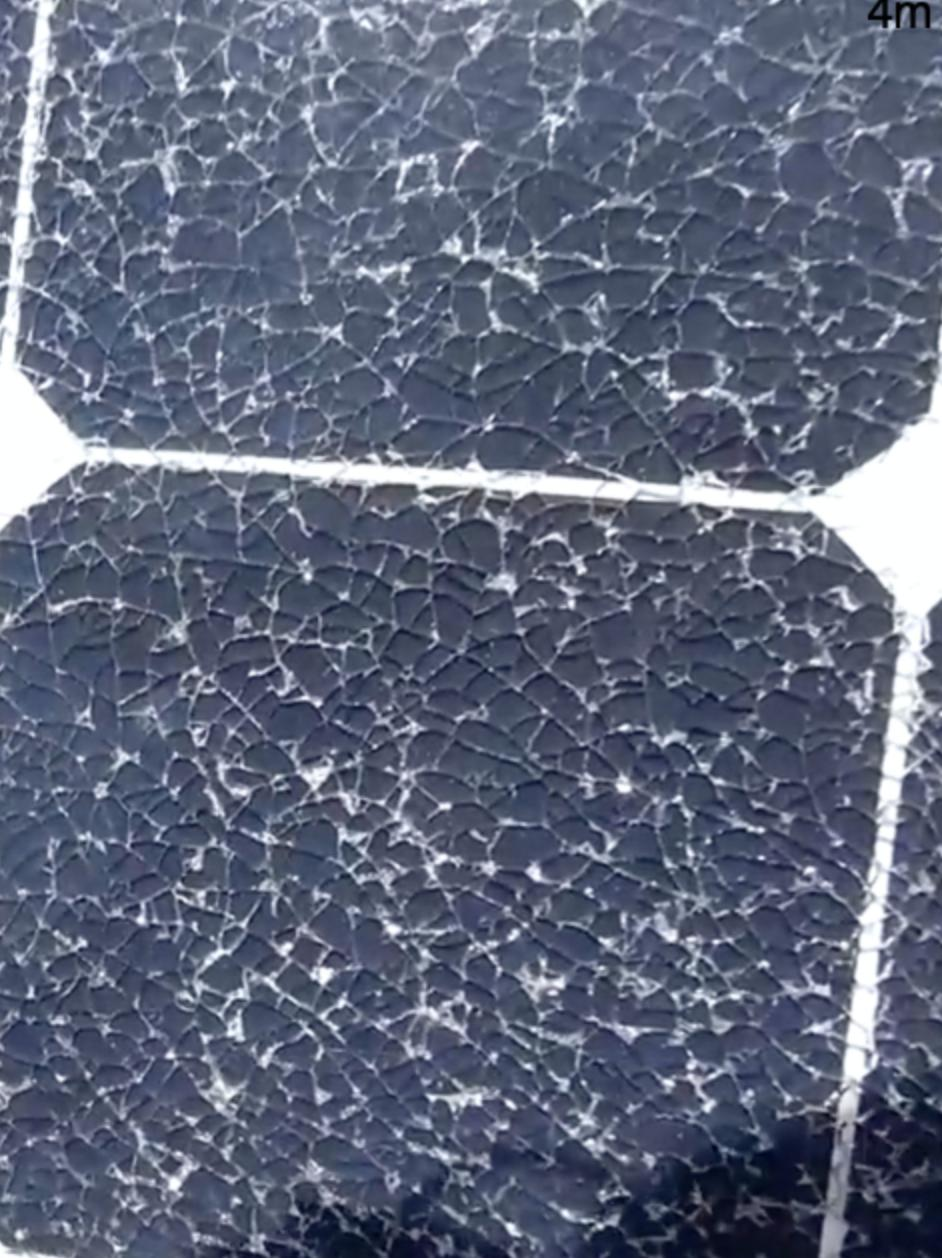Crack: (41, 21, 921, 1235)
